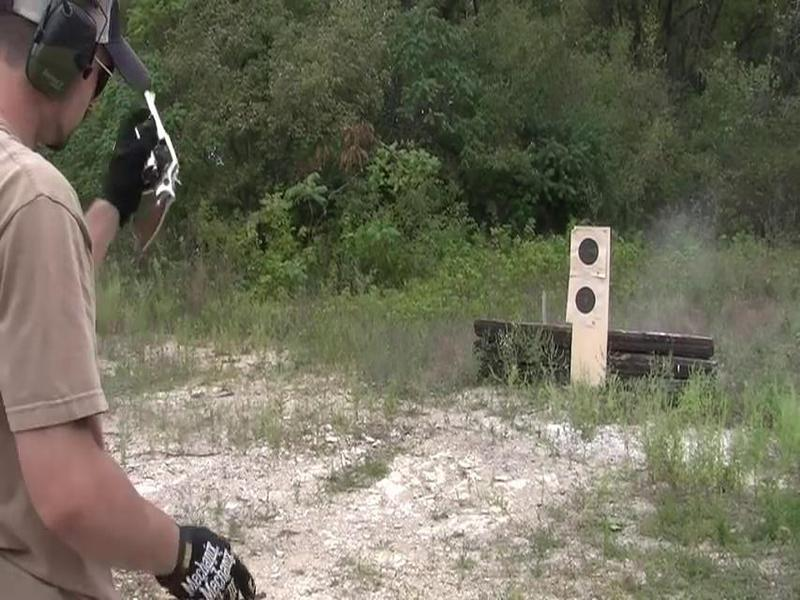Revolver: (118, 94, 196, 250)
